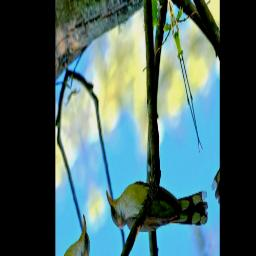Cuckoo: (106, 106, 211, 256)
